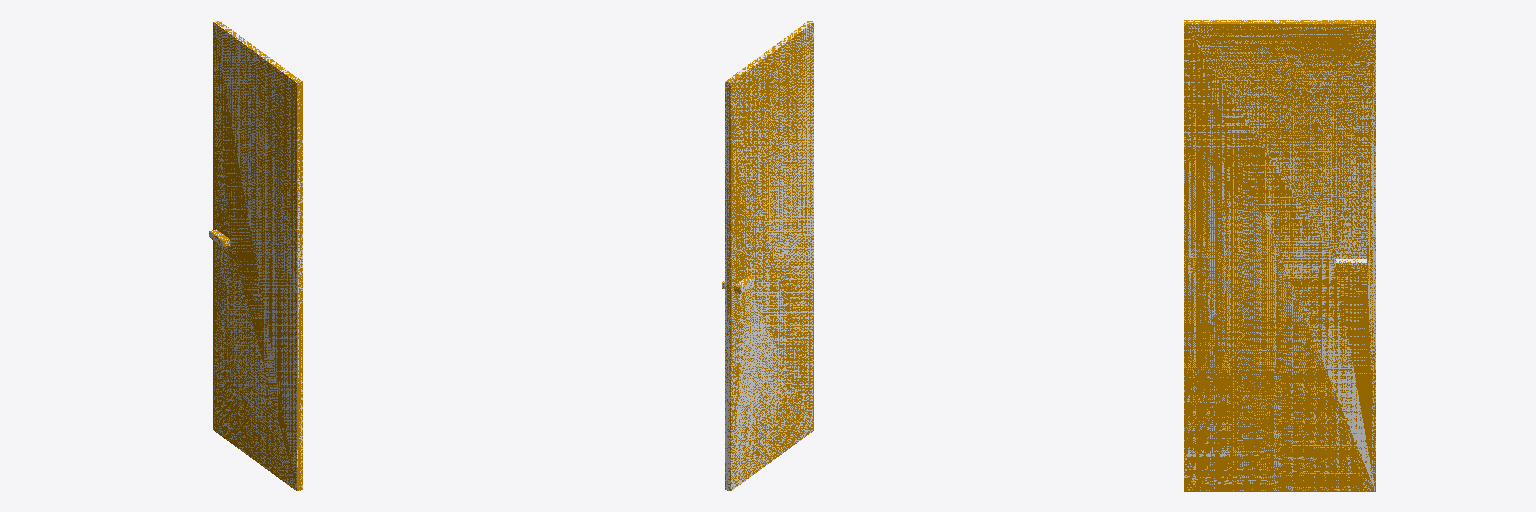
URDF robot description (my_object):
<?xml version="1.0" ?>
<robot name="my_object" static="true">
  <link name="base_link">
  <inertial>
    <mass value="1.0" />
    <origin xyz="0 0 0.0" />
    <inertia ixx="1.0" ixy="0.0" ixz="0.0" iyy="1.0" iyz="0.0" izz="1.0"/>
  </inertial>
  <visual>
   <origin xyz="0 0 0.0" rpy="0 0 0" />
   <geometry>
     <mesh filename="package://cob_gazebo_objects/Media/models/door_white.dae"/>
   </geometry>
  </visual>
  <collision>
   <origin xyz="0 0 0.0" rpy="0 0 0" />
   <geometry>
     <mesh filename="package://cob_gazebo_objects/Media/models/door_white.dae" />
   </geometry>
  </collision>
  </link>

<gazebo>
	<static>true</static>
</gazebo>
</robot>

--- Facts derived from the render (not from the file) ---
The picture shows the robot from 3 angles, left to right: view 1: azimuth 30°, elevation 25°; view 2: azimuth 150°, elevation 25°; view 3: azimuth 270°, elevation 25°; orthographic projection.
Robot: my_object — 1 links, 0 joints (none); root link base_link; default pose: all joints at 0.
Links seen in each view (by area): view 1: base_link; view 2: base_link; view 3: base_link.
Boxes of the visible links, x1=… form: base_link: x1=209, y1=21, x2=302, y2=490; base_link: x1=722, y1=21, x2=813, y2=490; base_link: x1=1184, y1=20, x2=1375, y2=491.
Size in the robot's own frame: 0.1403 by 0.9995 by 2.7 metres.
1 mesh visuals loaded from 1 distinct referenced files (1 Collada DAE).